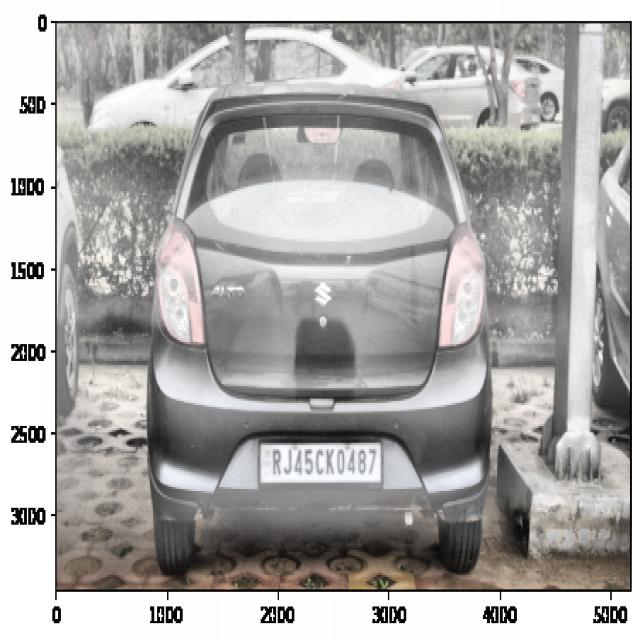license_plate: (263, 438, 382, 486)
